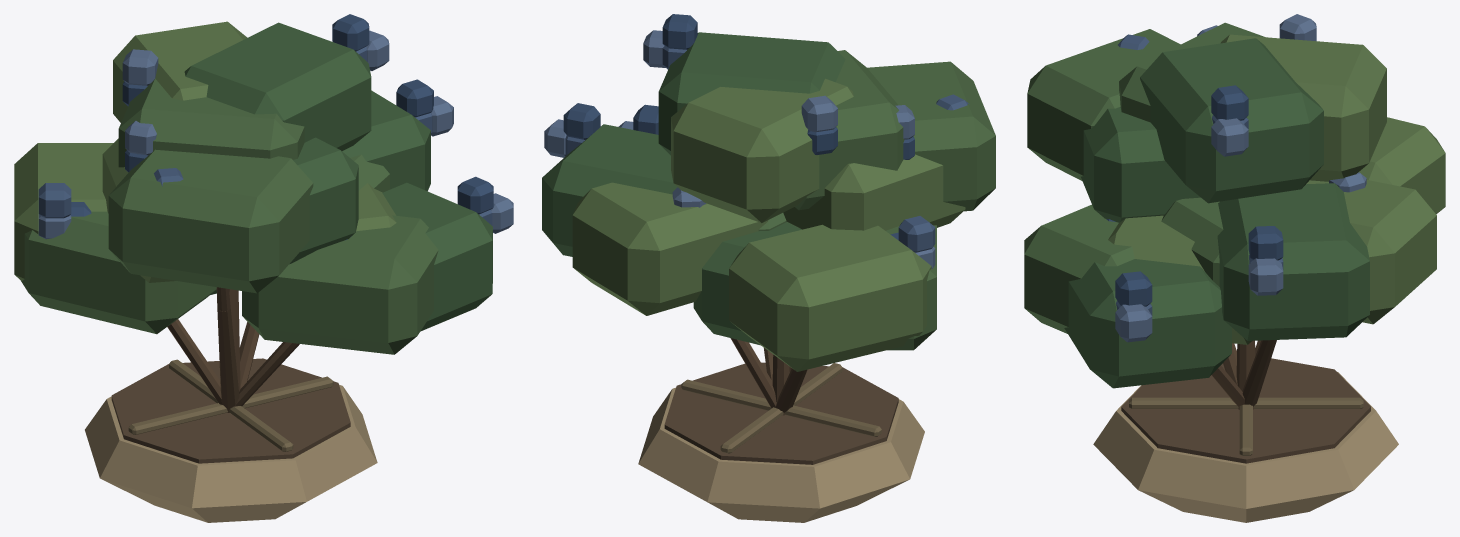
Rendered from blueberry_packed_summer.glb.
3 views of the same model, side by side, from view 1: azimuth 30°, elevation 25°; view 2: azimuth 150°, elevation 25°; view 3: azimuth 270°, elevation 25° (orthographic). The views are drawn at different scales.
Visible parts, largest first — view 1: blueberry_packed_summer; view 2: blueberry_packed_summer; view 3: blueberry_packed_summer.
Part boxes in pixels (x1,y1,x2,y2): blueberry_packed_summer: (14,14,513,522); blueberry_packed_summer: (542,14,995,522); blueberry_packed_summer: (1024,14,1445,522).
Bounding box in the file's own units: 1.87 × 1.95 × 1.65.
